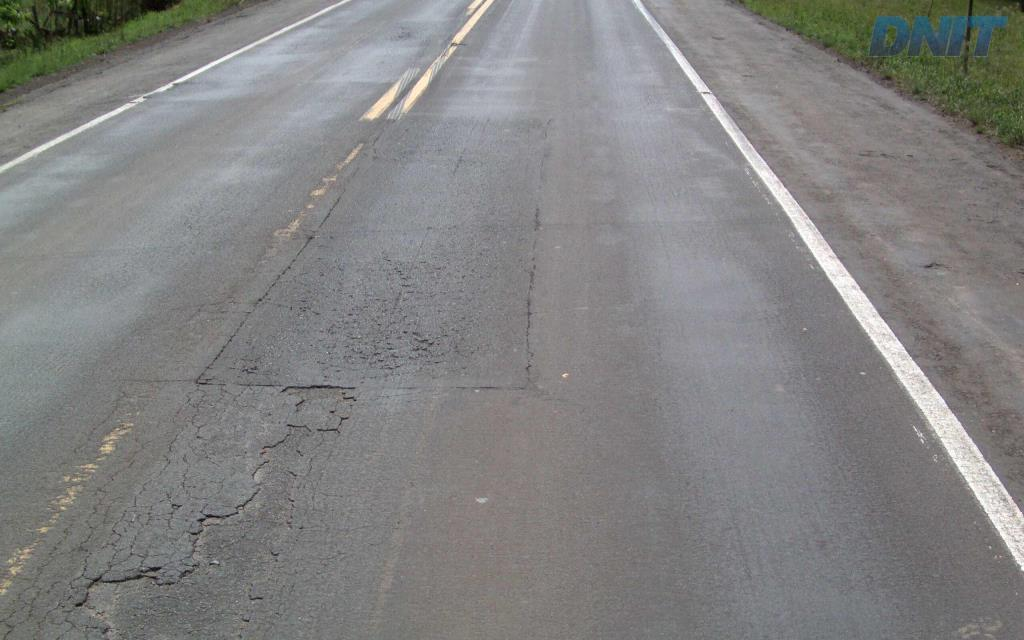crack: (67, 519, 97, 589), (35, 587, 74, 628)
pothole: (66, 417, 322, 638), (277, 381, 364, 414)
